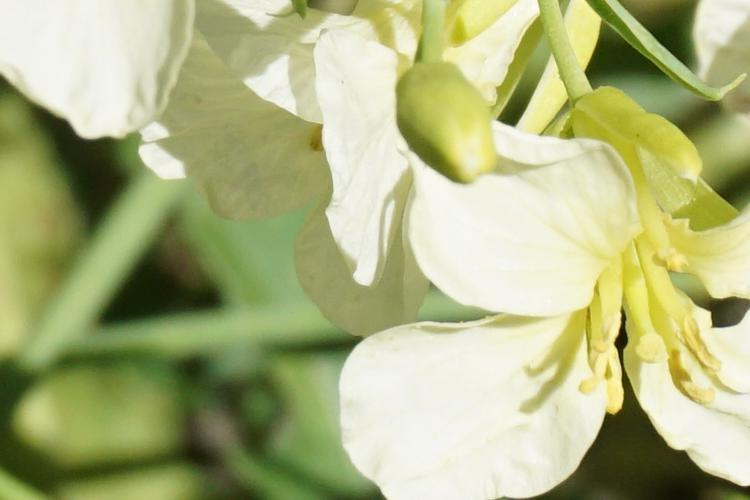bud: (391, 57, 526, 186)
white: (67, 12, 574, 277), (385, 163, 750, 493)
